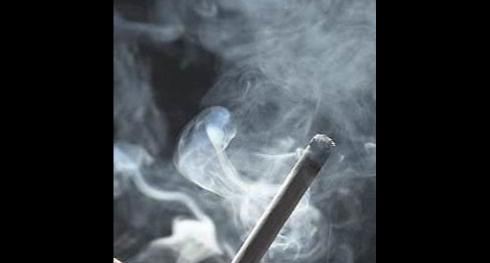Cigarette: (191, 132, 334, 263)
Smoke: (113, 0, 376, 263)
